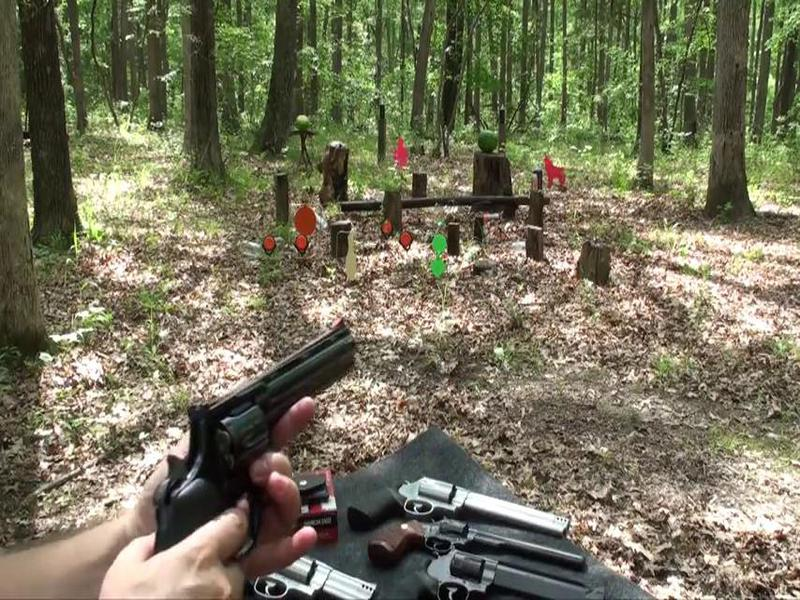Revolver: (162, 285, 379, 600)
